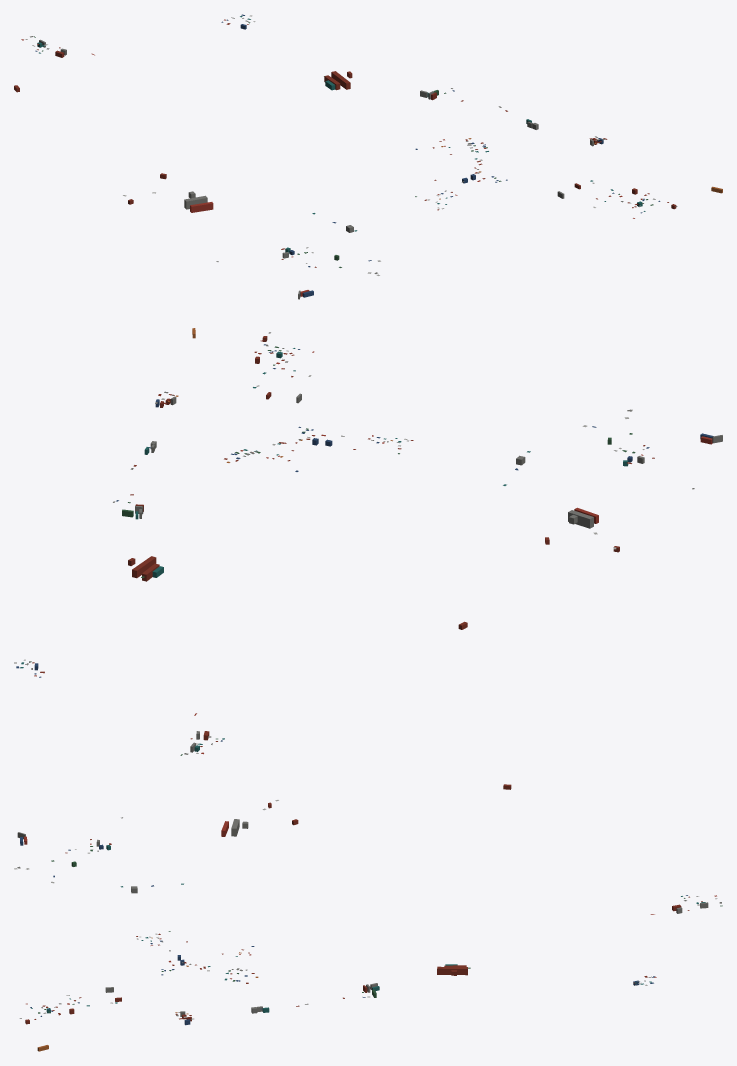
Rendered from far-13-6837-3720.22725929.glb.
3 renders of one model, top to bottom at view 1: azimuth 30°, elevation 25°; view 2: azimuth 150°, elevation 25°; view 3: azimuth 270°, elevation 25°, orthographic. The views are drawn at different scales.
Bounding box in the file's own units: 2416 × 313 × 3168.
